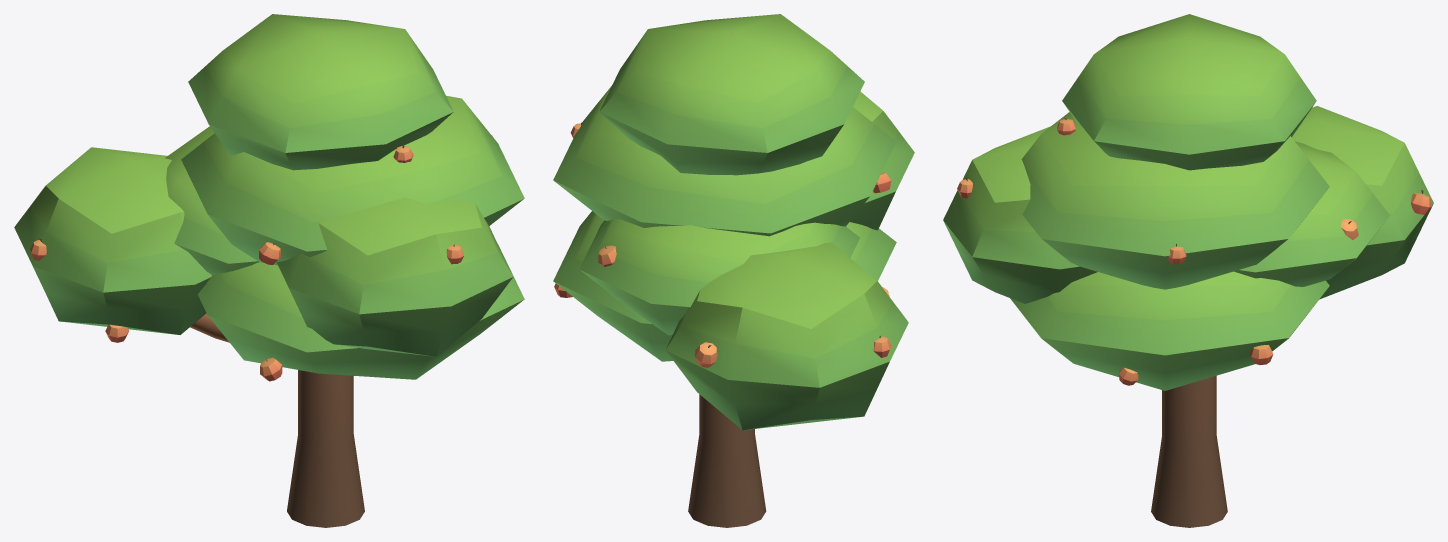
Rendered from Яблоня.fbx.
3 views of the same model, side by side, from view 1: azimuth 30°, elevation 25°; view 2: azimuth 150°, elevation 25°; view 3: azimuth 270°, elevation 25° (orthographic).
Visible parts, largest first — view 1: Яблоня; view 2: Яблоня; view 3: Яблоня.
Part boxes in pixels (x1,y1,x2,y2): Яблоня: (14, 14, 524, 527); Яблоня: (553, 14, 914, 527); Яблоня: (943, 14, 1433, 527).
Size of the model in its own units: 135 by 158 by 149.
